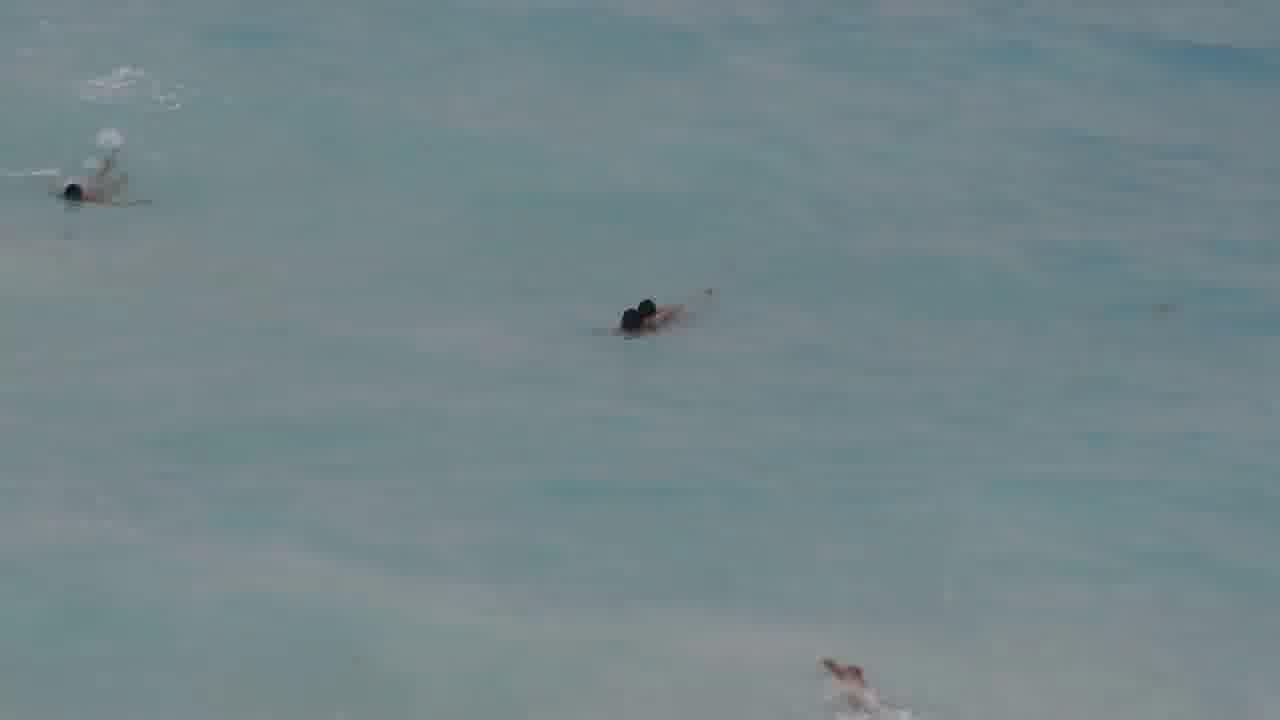swimmer: (44, 164, 153, 211), (811, 646, 877, 715), (636, 291, 697, 329), (591, 305, 650, 344)
